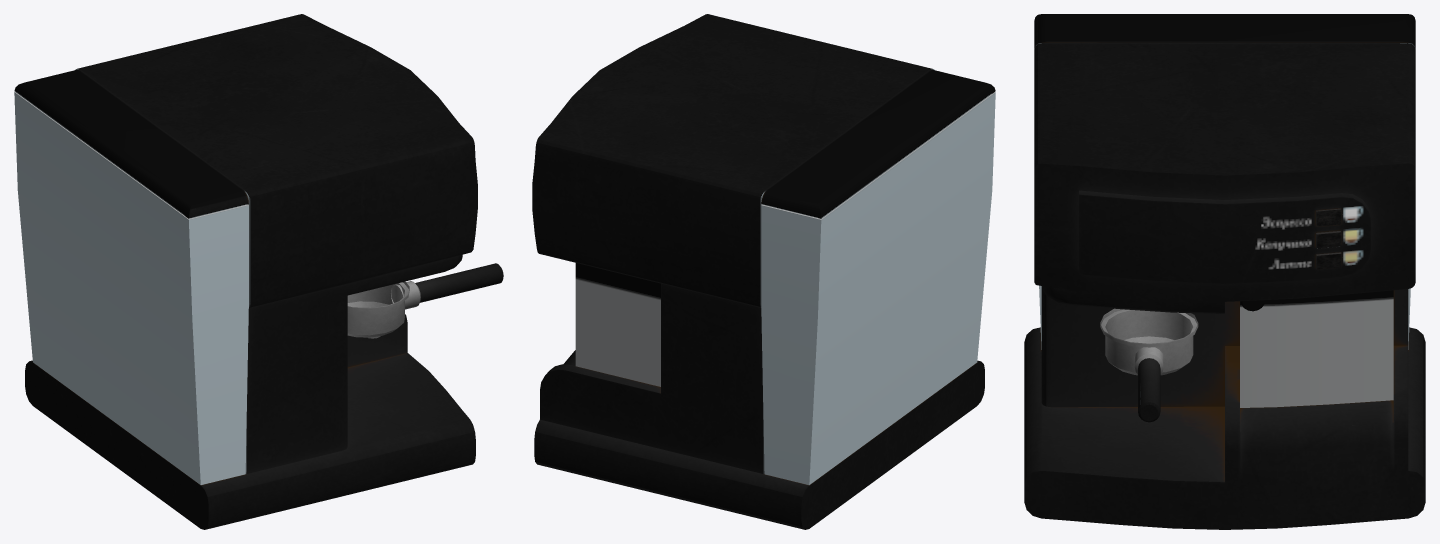
File: coffee machine.fbx
The picture shows the model from 3 angles, left to right: view 1: azimuth 30°, elevation 25°; view 2: azimuth 150°, elevation 25°; view 3: azimuth 270°, elevation 25°; orthographic projection. The views are drawn at different scales.
Visible parts, largest first — view 1: coffee machine, coffee hodler; view 2: coffee machine; view 3: coffee machine, coffee hodler.
Part boxes in pixels (x1,y1,x2,y2): coffee machine: [14, 14, 477, 529]; coffee hodler: [347, 263, 503, 338]; coffee machine: [532, 14, 995, 529]; coffee machine: [1024, 14, 1425, 529]; coffee hodler: [1100, 308, 1198, 422].
Bounding box in the file's own units: 39.74 × 34.13 × 34.79.
Materials: 1 (1 with a texture image).
